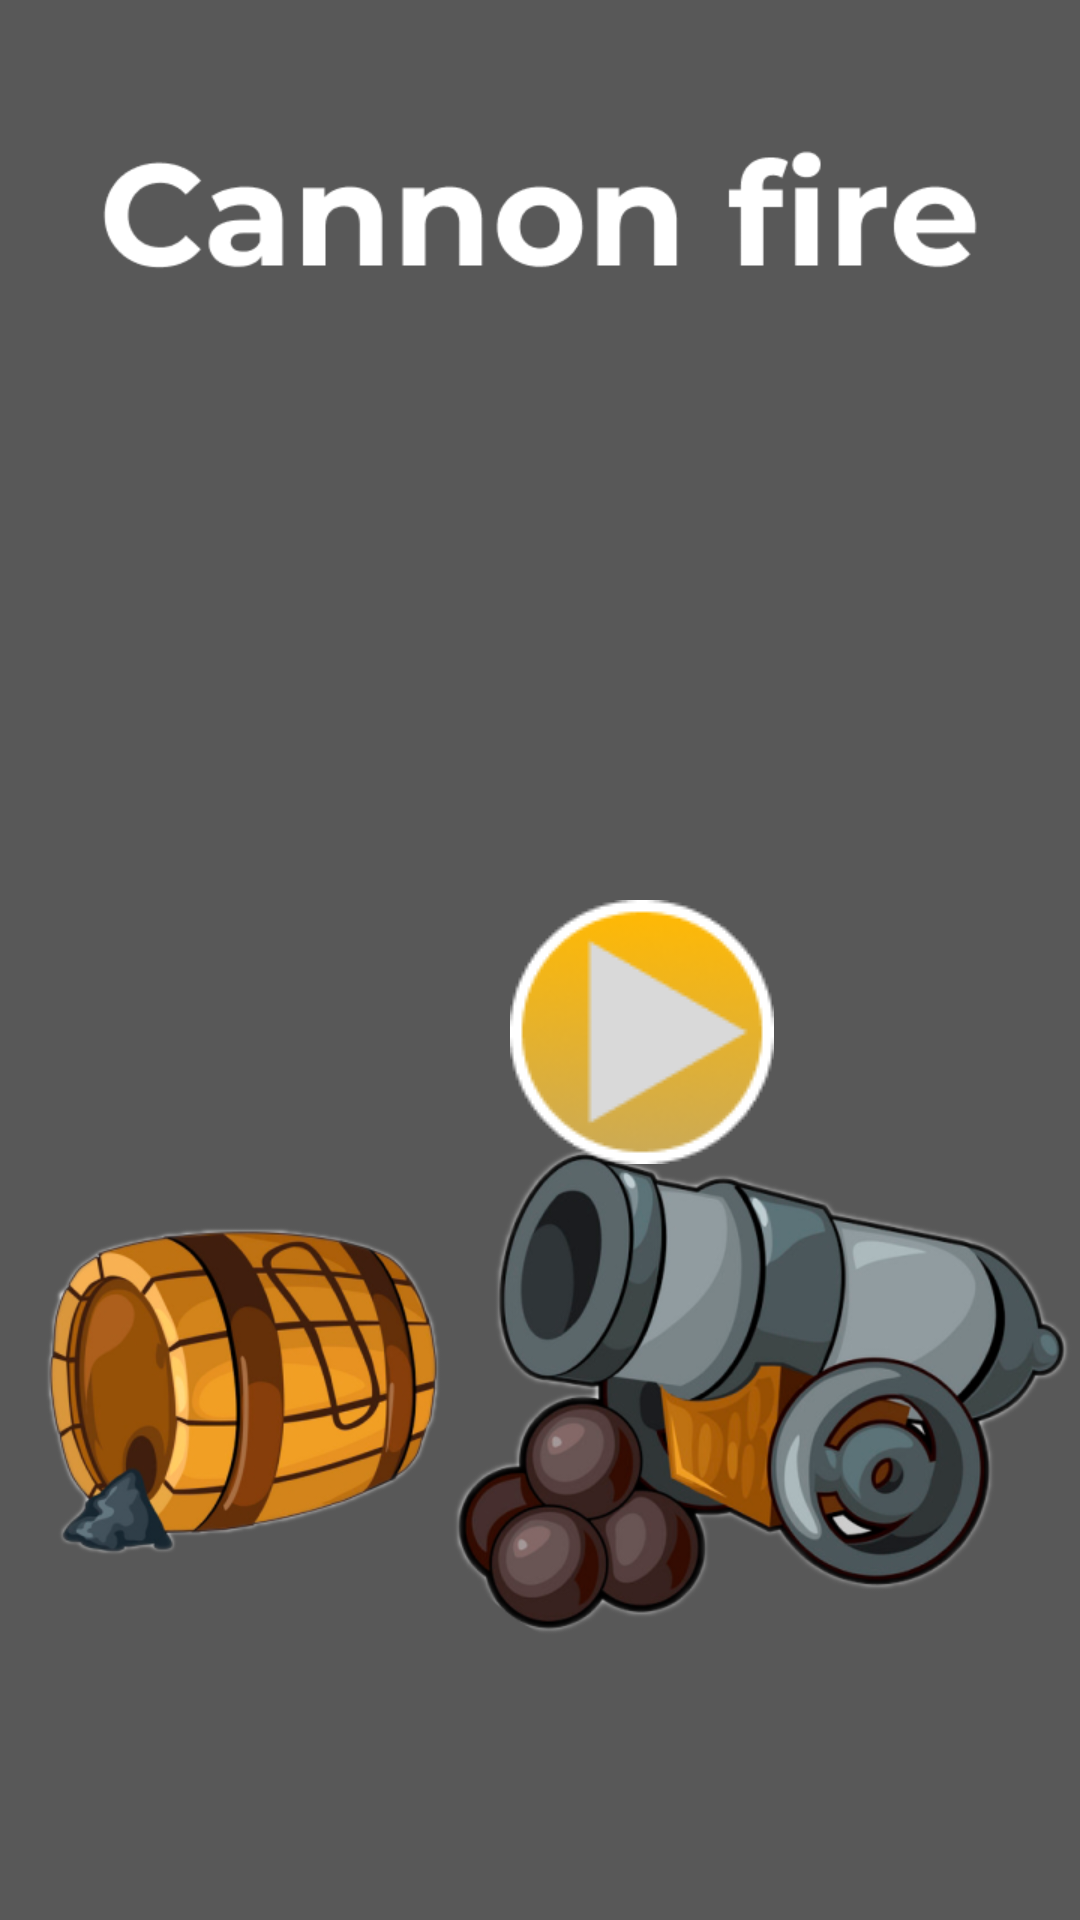

Point at icon controls on the screen. Image size 1080*1920, points as (x=x, y=y).
play: (x=642, y=1032)
